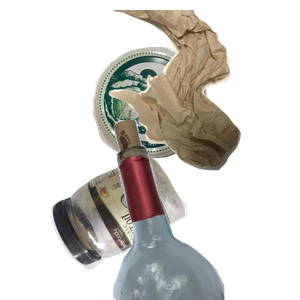glass: (89, 120, 300, 300)
metal: (90, 44, 289, 195)
plastic: (48, 152, 228, 300)
trash: (103, 10, 300, 173)
